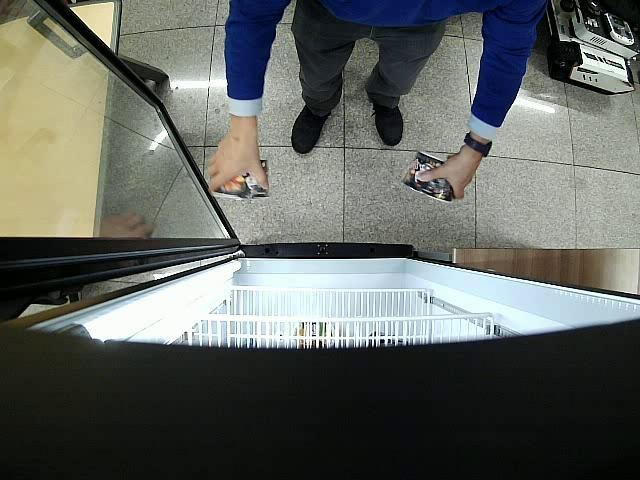07_buldak_L: (402, 152, 456, 203), (210, 158, 272, 198)
